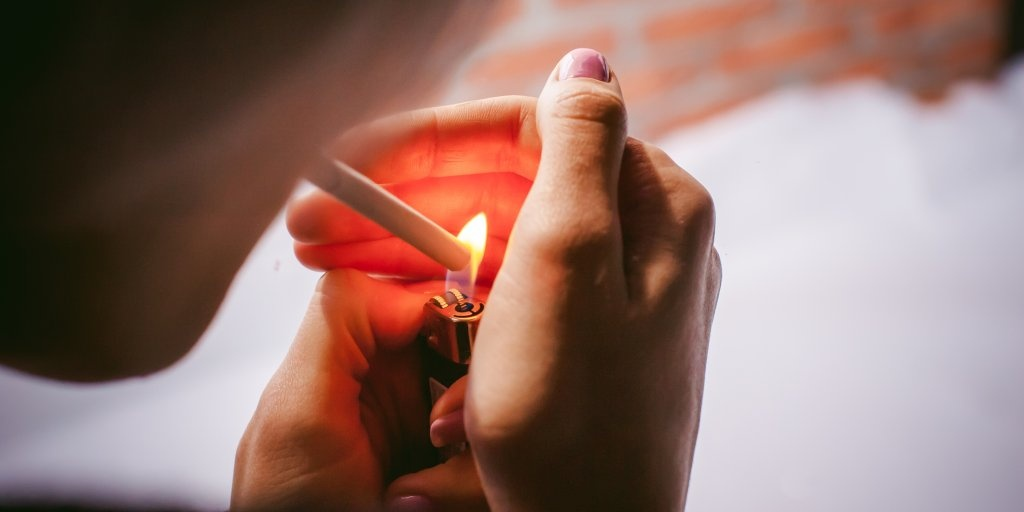sigaretta: (295, 118, 486, 280)
